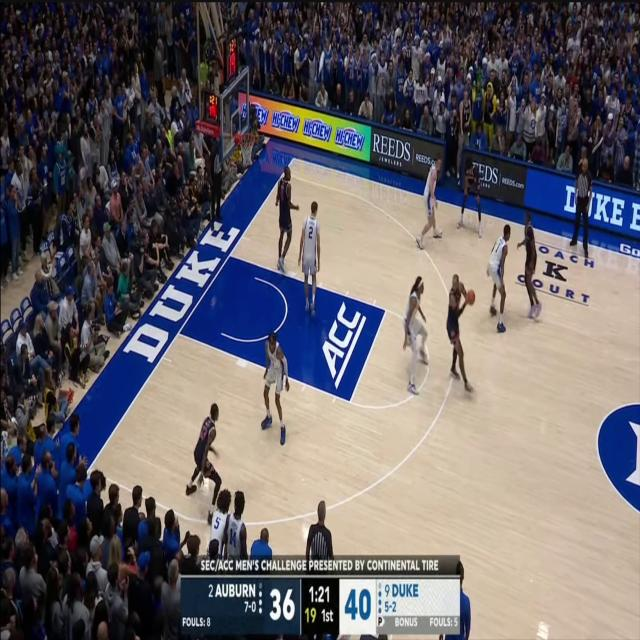basketball: (463, 270, 480, 324)
